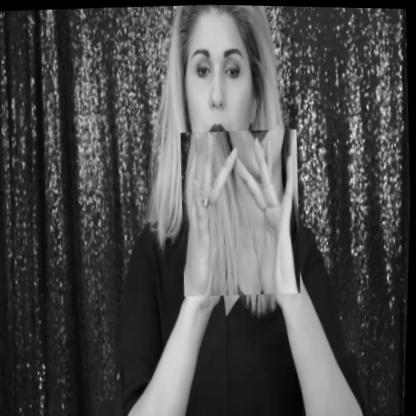Internet: (177, 126, 305, 298)
